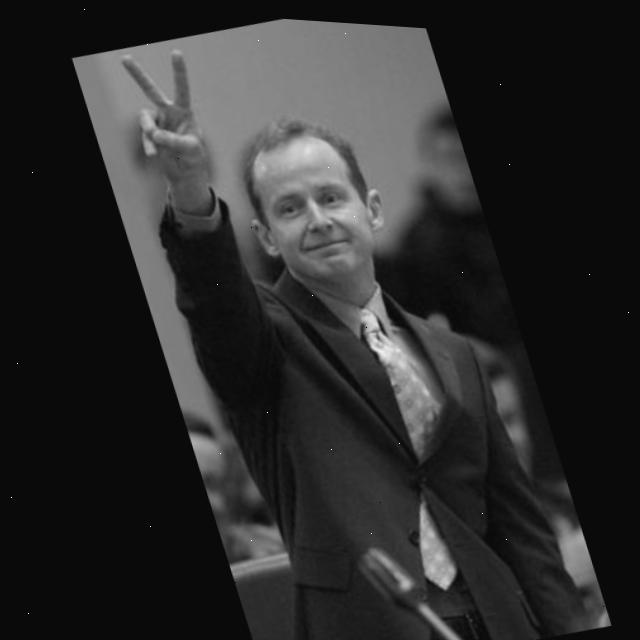face: (224, 110, 396, 298)
